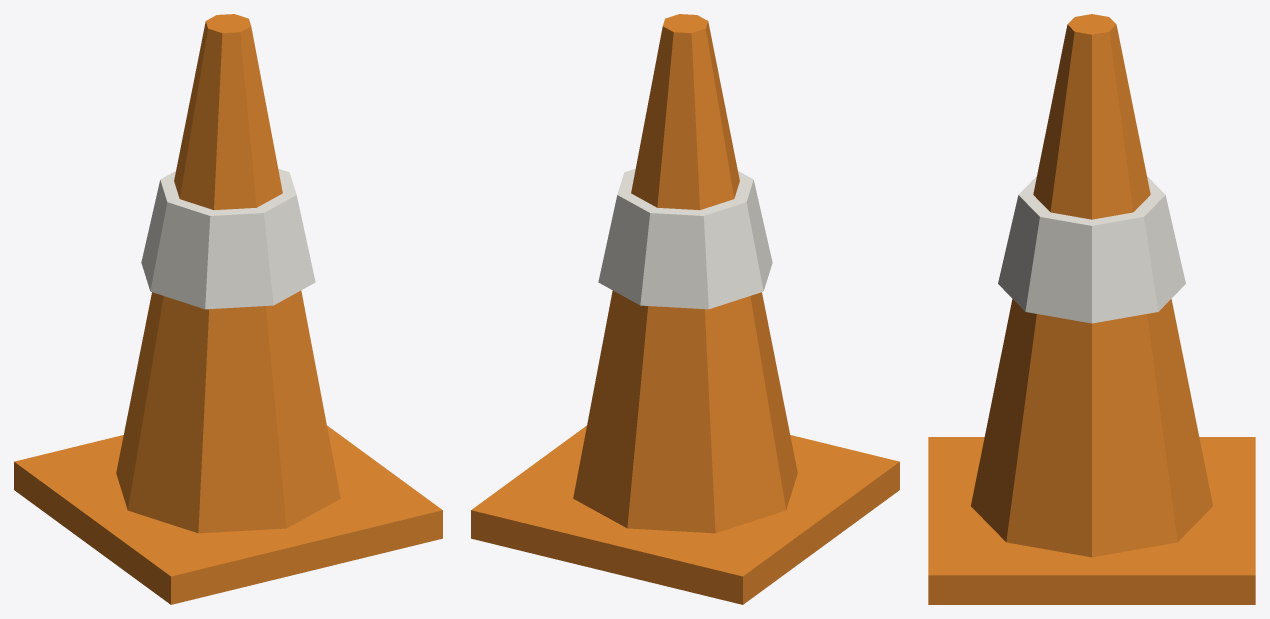
3 views of the same model, side by side, from view 1: azimuth 30°, elevation 25°; view 2: azimuth 150°, elevation 25°; view 3: azimuth 270°, elevation 25° (orthographic). The views are drawn at different scales.
Parts seen in each view (by area): view 1: cone; view 2: cone; view 3: cone.
Part boxes in pixels (left/top/right/bottom): cone: left=14, top=14, right=442, bottom=604; cone: left=471, top=14, right=899, bottom=604; cone: left=928, top=14, right=1255, bottom=604.
Size of the model in its own units: 0.4 by 0.69 by 0.4.
